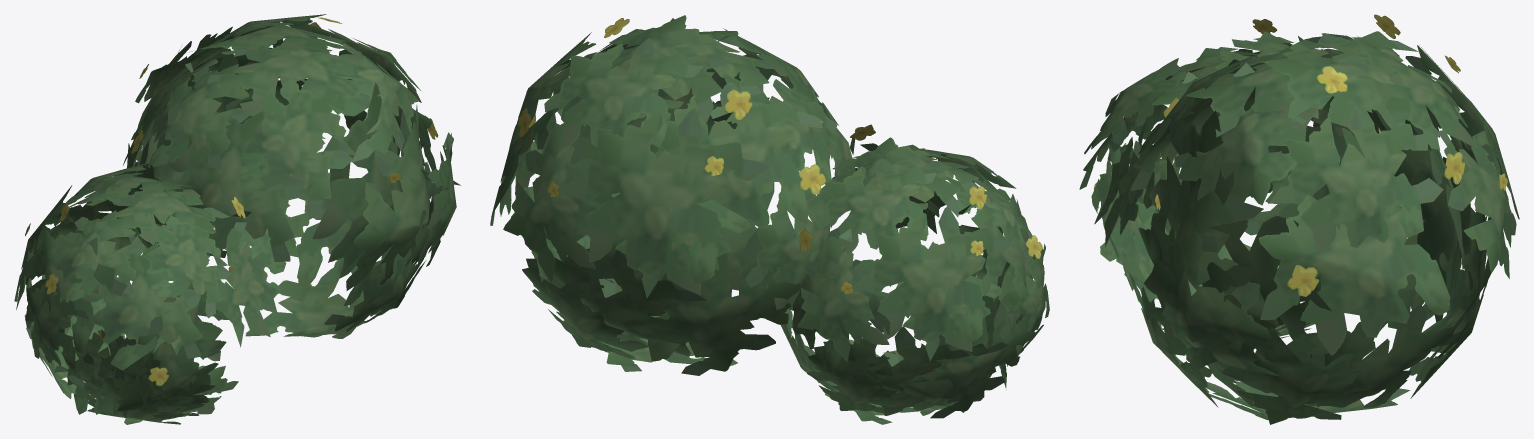
File: pref_sm_beach_bk_pointmol_grassplant02b_lv1.fbx
3 renders of one model, left to right at view 1: azimuth 30°, elevation 25°; view 2: azimuth 150°, elevation 25°; view 3: azimuth 270°, elevation 25°, orthographic. The views are drawn at different scales.
Visible parts, largest first — view 1: pref_sm_beach_bk_pointmol_grassplant02b_lv1; view 2: pref_sm_beach_bk_pointmol_grassplant02b_lv1; view 3: pref_sm_beach_bk_pointmol_grassplant02b_lv1.
Boxes of the visible parts, <box> form: pref_sm_beach_bk_pointmol_grassplant02b_lv1: <box>14,14,460,424</box>; pref_sm_beach_bk_pointmol_grassplant02b_lv1: <box>490,15,1049,424</box>; pref_sm_beach_bk_pointmol_grassplant02b_lv1: <box>1079,14,1519,424</box>.
Size of the model in its own units: 5.61 by 4.01 by 4.09.
